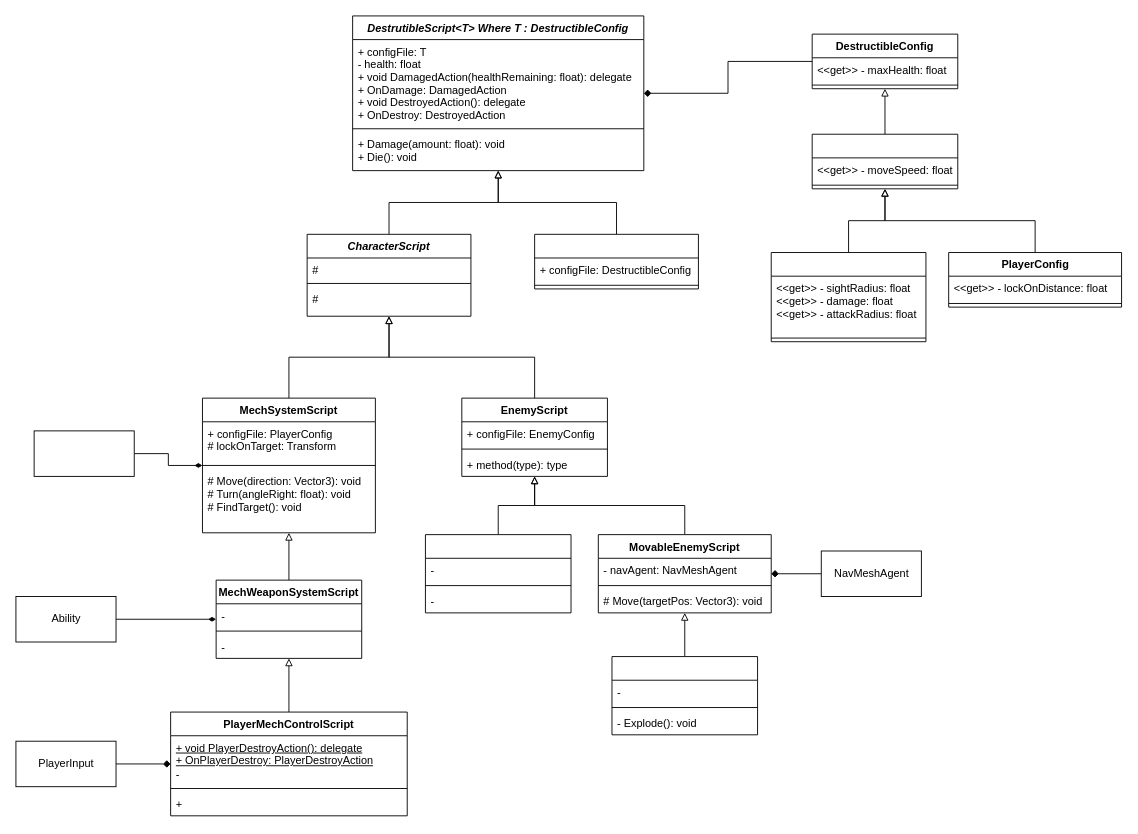
This 1138x834 diagram has some shape labels left out. The shapes that lost their labels are listed below. From the top down, each one's box as (x1, y1, x2, y2) in pixels, then its label:
(811, 133, 958, 189): CharacterConfig
(534, 233, 698, 289): DestructibleObjectScript
(770, 252, 926, 342): EnemyConfig
(33, 430, 134, 476): Rigidbody
(425, 534, 571, 613): EnemyTurretScript
(611, 656, 758, 735): SuicideDogEnemyScript
